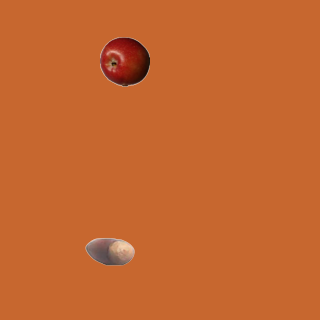Apple Braeburn: (99, 36, 149, 86)
Hazelnut: (84, 226, 134, 276)
